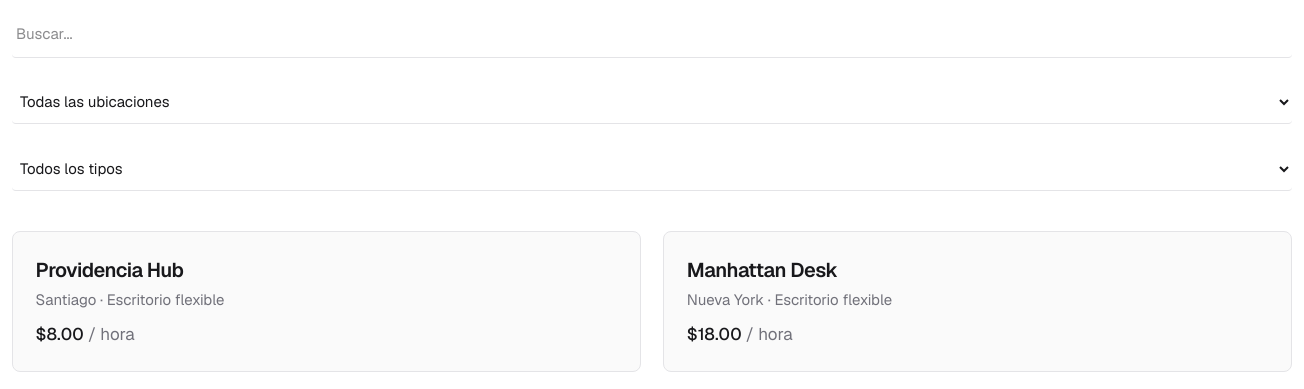
Test case: CatalogoEspacios › muestra un mensaje cuando no hay resultados
The width and height of the screenshot is (1304, 389).
Step 1. Type "no-existe" into the field with placeholder "Buscar..." → (652, 35), box [12, 12, 1292, 58]
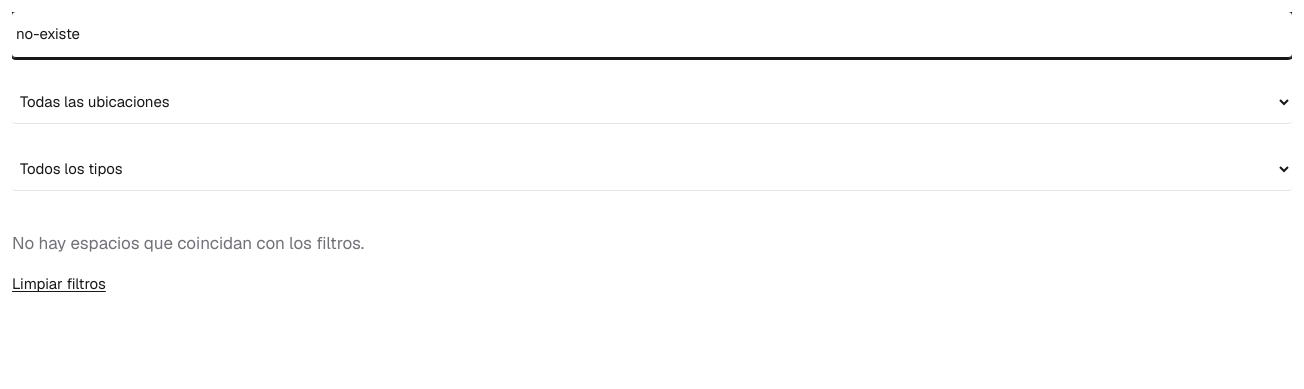
expect the text "No hay espacios que coincidan con los filtros." is shown: met, box [12, 232, 364, 254]
